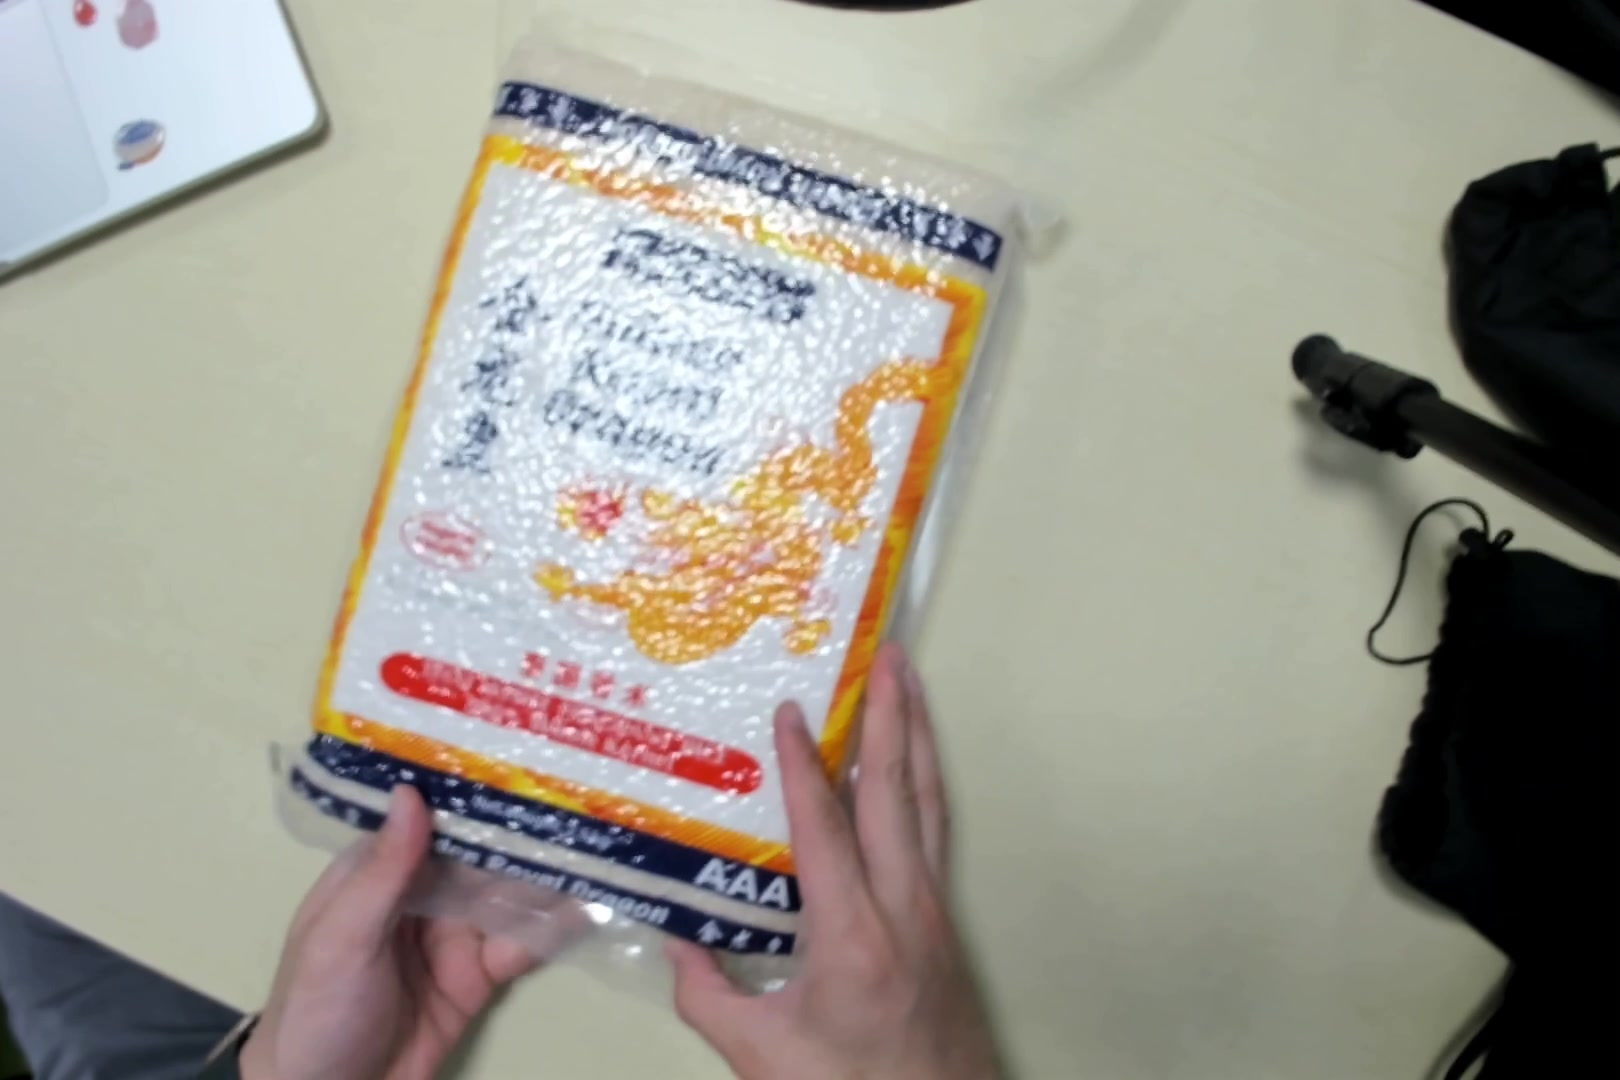Rice(White)_2000-2999g_NonHalal_NonHealthy: (306, 74, 1040, 972)
